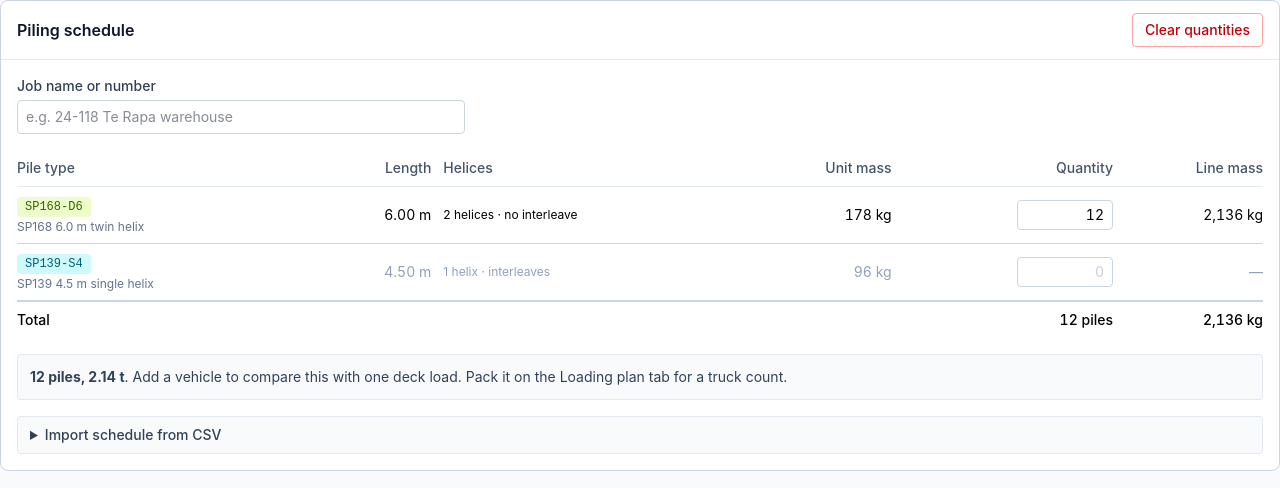
quantities › lets the box be cleared back to empty
Clear the field named "Quantity of SP168-D6" at (1065, 215), box [1017, 200, 1113, 230]
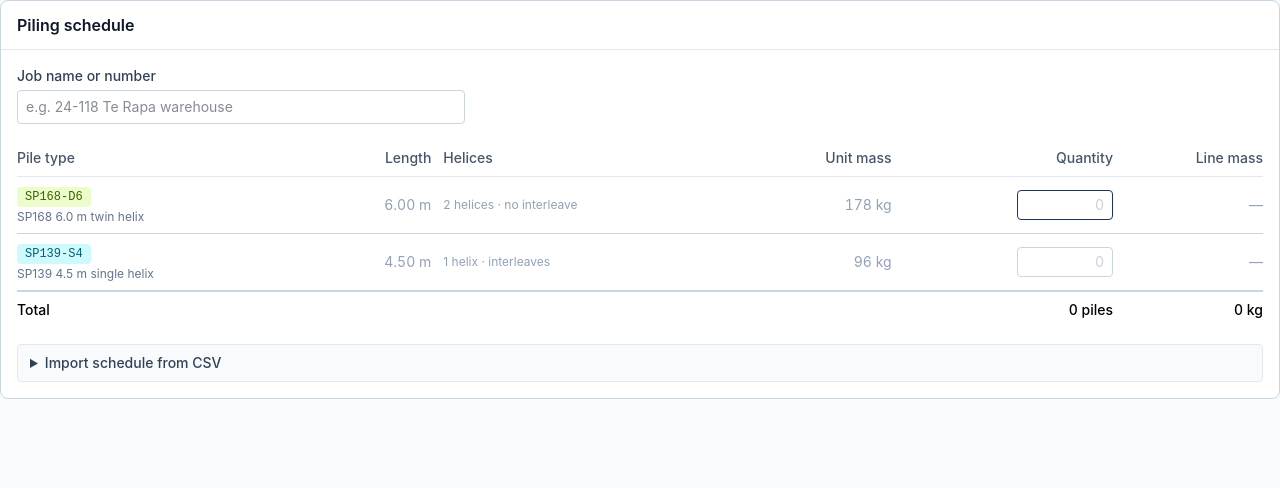
Now the text "0 piles" is shown, box [904, 291, 1125, 328]
